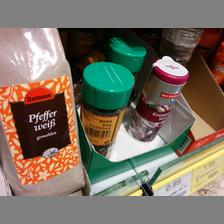Gewuerze: (0, 28, 84, 196), (128, 56, 188, 140), (80, 60, 132, 156)
